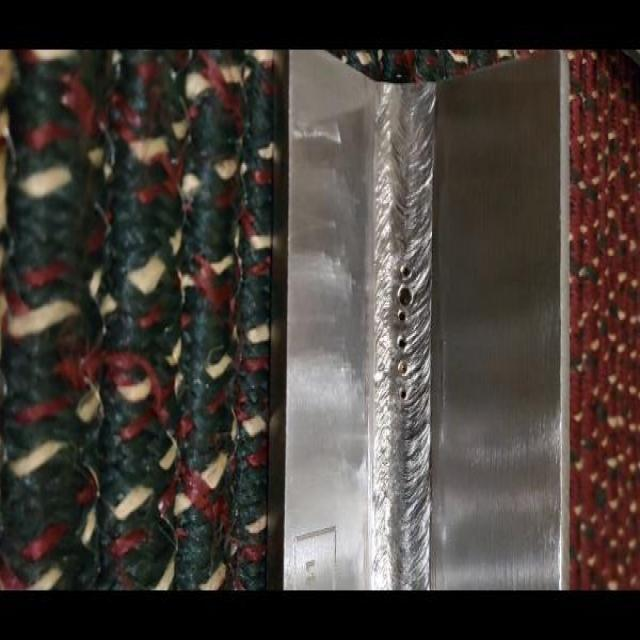Workpiece: (282, 55, 568, 595)
porosity: (397, 264, 413, 397)
